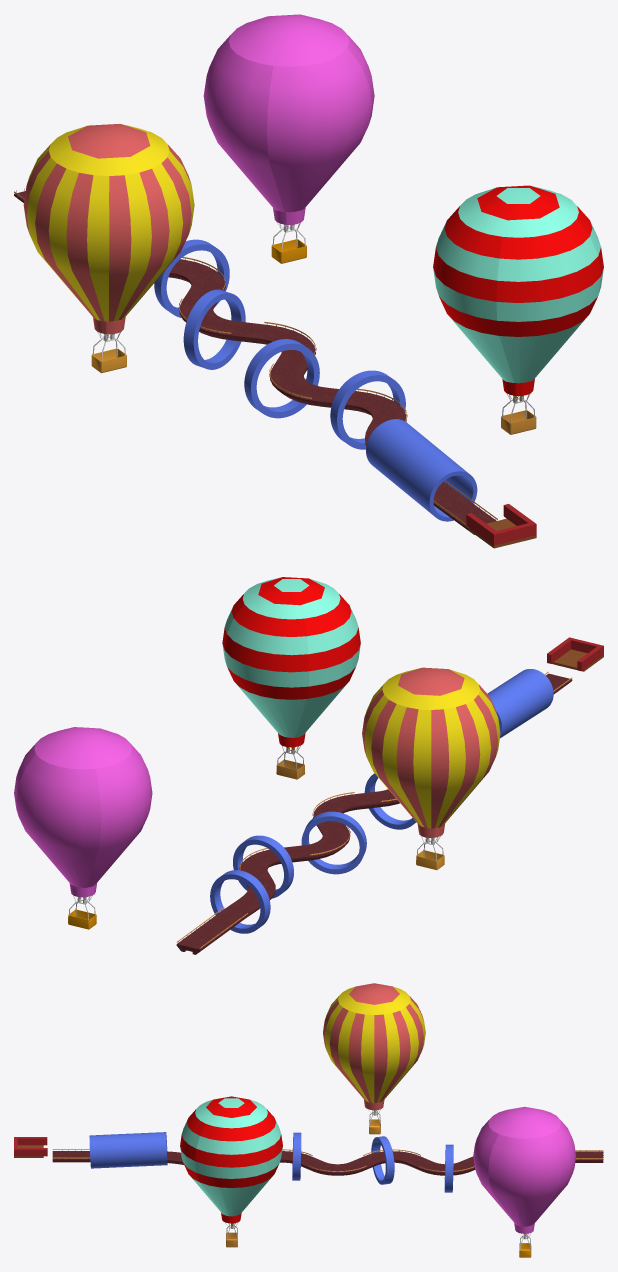
File: LEVEL 2.fbx
The picture shows the model from 3 angles, top to bottom: view 1: azimuth 30°, elevation 25°; view 2: azimuth 150°, elevation 25°; view 3: azimuth 270°, elevation 25°; orthographic projection. The views are drawn at different scales.
Visible parts, largest first — view 1: ballon, baloon_2, ballon_1, Road, tunnel, yellow, green, brown, blue, Ograda; view 2: ballon, baloon_2, ballon_1, Road, tunnel, red, yellow, blue, green; view 3: ballon, ballon_1, baloon_2, Road, tunnel, yellow, Ograda, blue, green.
Boxes of the visible parts, <box> form: ballon: <box>23,124,194,373</box>; baloon_2: <box>203,14,374,263</box>; ballon_1: <box>433,185,603,434</box>; Road: <box>14,191,496,534</box>; tunnel: <box>366,419,477,521</box>; yellow: <box>183,289,245,369</box>; green: <box>244,339,319,418</box>; brown: <box>330,370,405,449</box>; blue: <box>154,239,229,317</box>; Ograda: <box>14,191,497,526</box>; ballon: <box>362,667,500,870</box>; baloon_2: <box>14,727,152,929</box>; ballon_1: <box>222,577,360,779</box>; Road: <box>176,673,572,954</box>; tunnel: <box>487,669,553,738</box>; red: <box>210,870,270,933</box>; yellow: <box>301,811,366,874</box>; blue: <box>233,835,293,898</box>; green: <box>364,773,416,829</box>; ballon: <box>323,983,425,1134</box>; ballon_1: <box>180,1096,282,1247</box>; baloon_2: <box>473,1106,576,1257</box>; Road: <box>52,1151,603,1175</box>; tunnel: <box>89,1132,167,1168</box>; yellow: <box>371,1136,394,1184</box>; Ograda: <box>52,1149,603,1171</box>; blue: <box>444,1144,453,1192</box>; green: <box>292,1132,301,1180</box>.
Bounding box in the file's own units: 4233 × 2597 × 7927.
20 materials, 5 textured.
